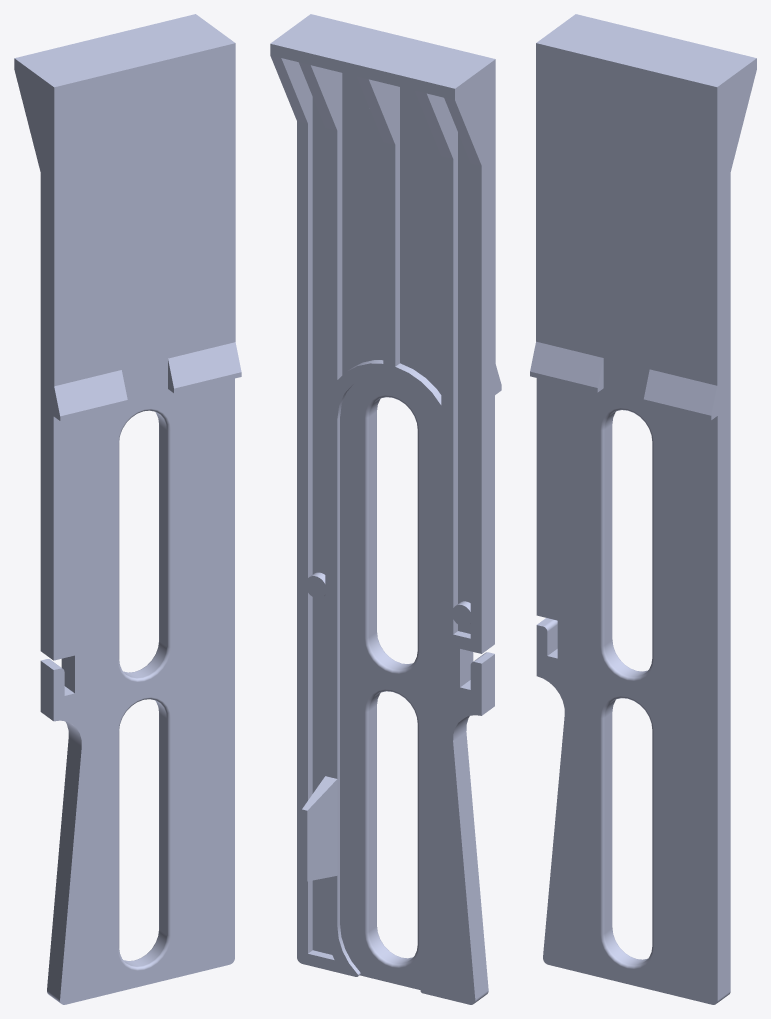
The model's file is Drop Target Wedge Top (03-8033).fbx.
The picture shows the model from 3 angles, left to right: view 1: azimuth 30°, elevation 25°; view 2: azimuth 150°, elevation 25°; view 3: azimuth 330°, elevation 25°; orthographic projection. The views are drawn at different scales.
Parts seen in each view (by area): view 1: Target_03-8033; view 2: Target_03-8033; view 3: Target_03-8033.
Part boxes in pixels (<box>): Target_03-8033: <box>14,14,241,1004</box>; Target_03-8033: <box>270,14,501,1004</box>; Target_03-8033: <box>530,14,756,1004</box>.
Bounding box in the file's own units: 2.54 × 12.32 × 1.11.
